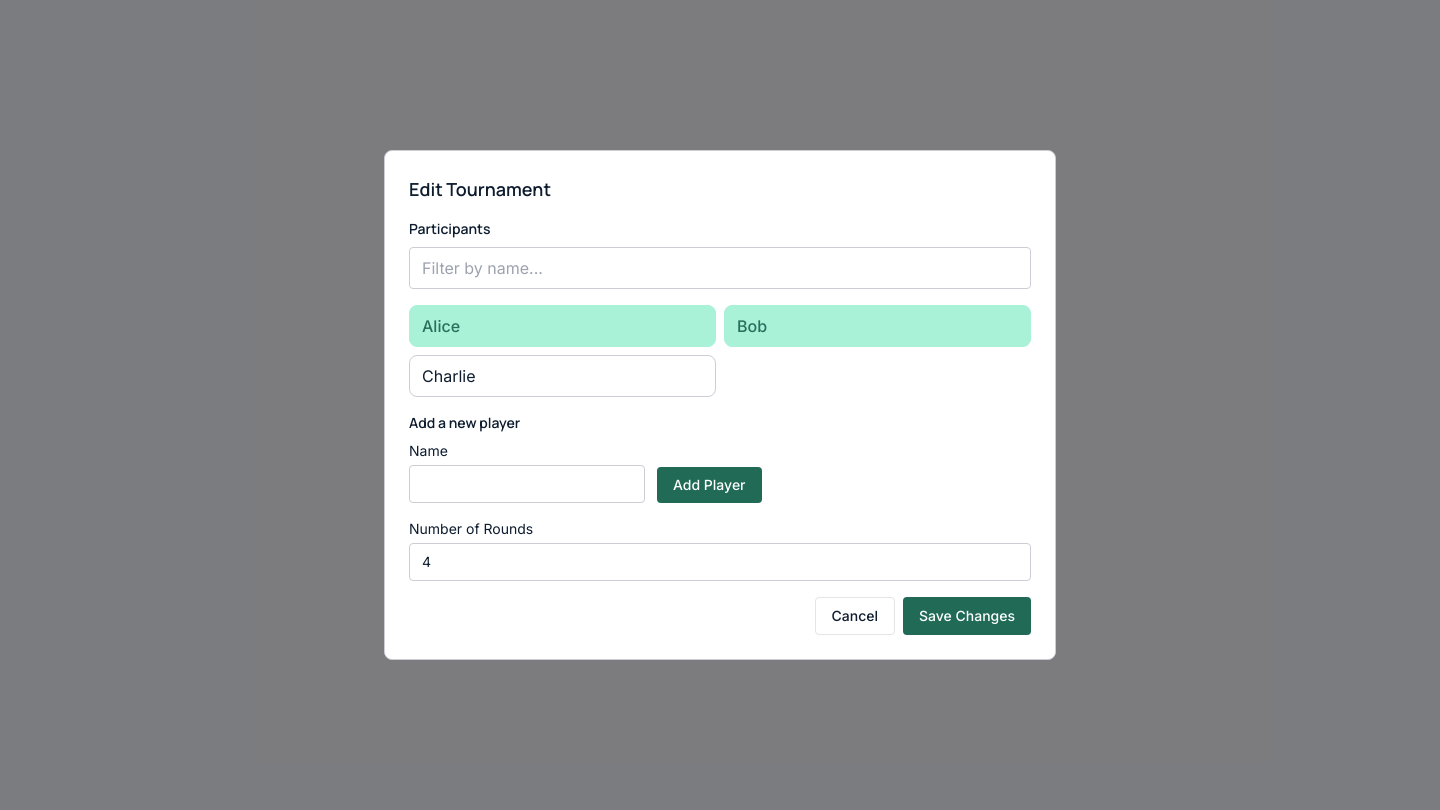
EditTournamentModal › shows the returned error and keeps the modal open instead of throwing
Click the button "Save Changes" at {"x": 967, "y": 616}, box x1=903 y1=597 x2=1031 y2=635
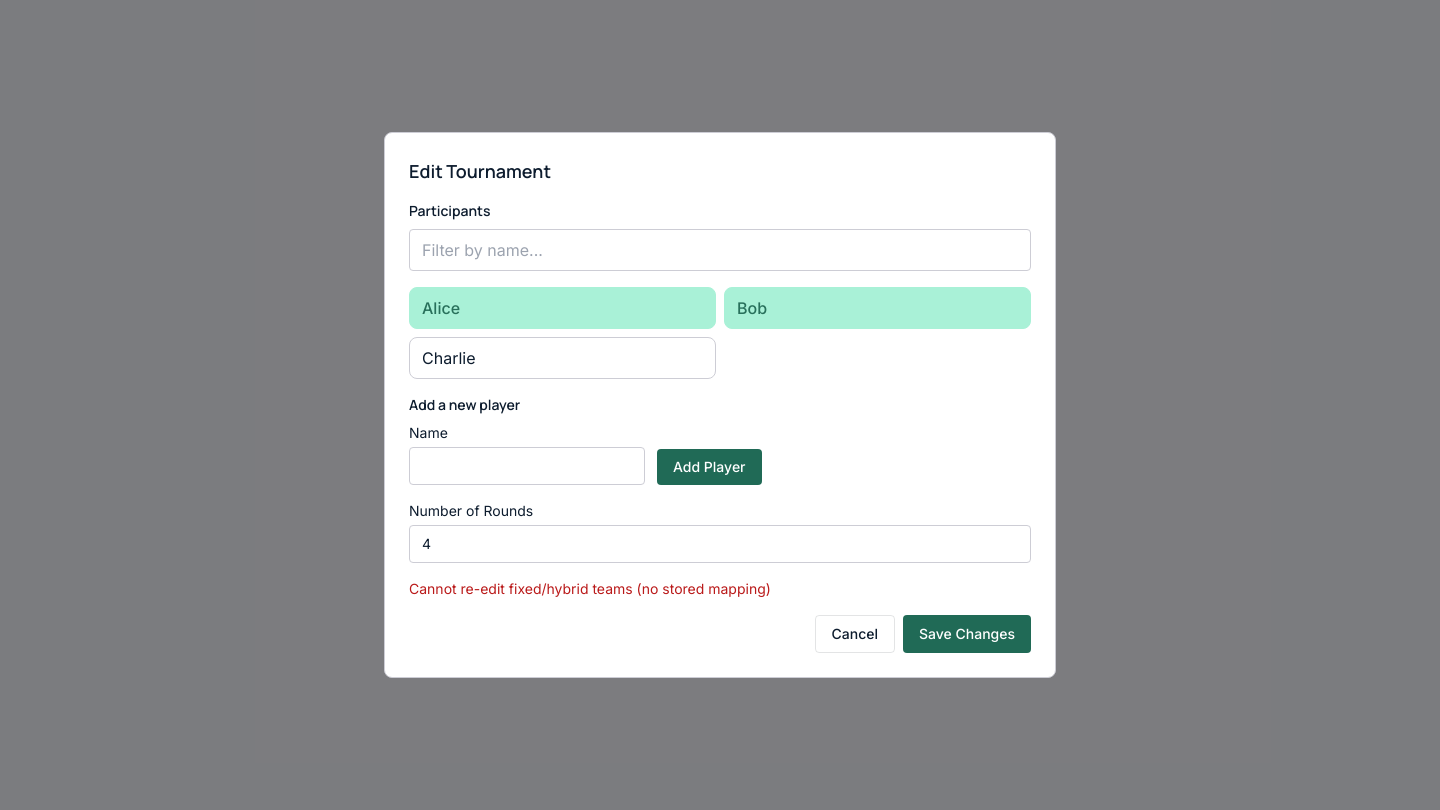
Now the text "Cannot re-edit fixed/hybrid teams (no stored mapping)" is shown, box x1=409 y1=580 x2=771 y2=597
